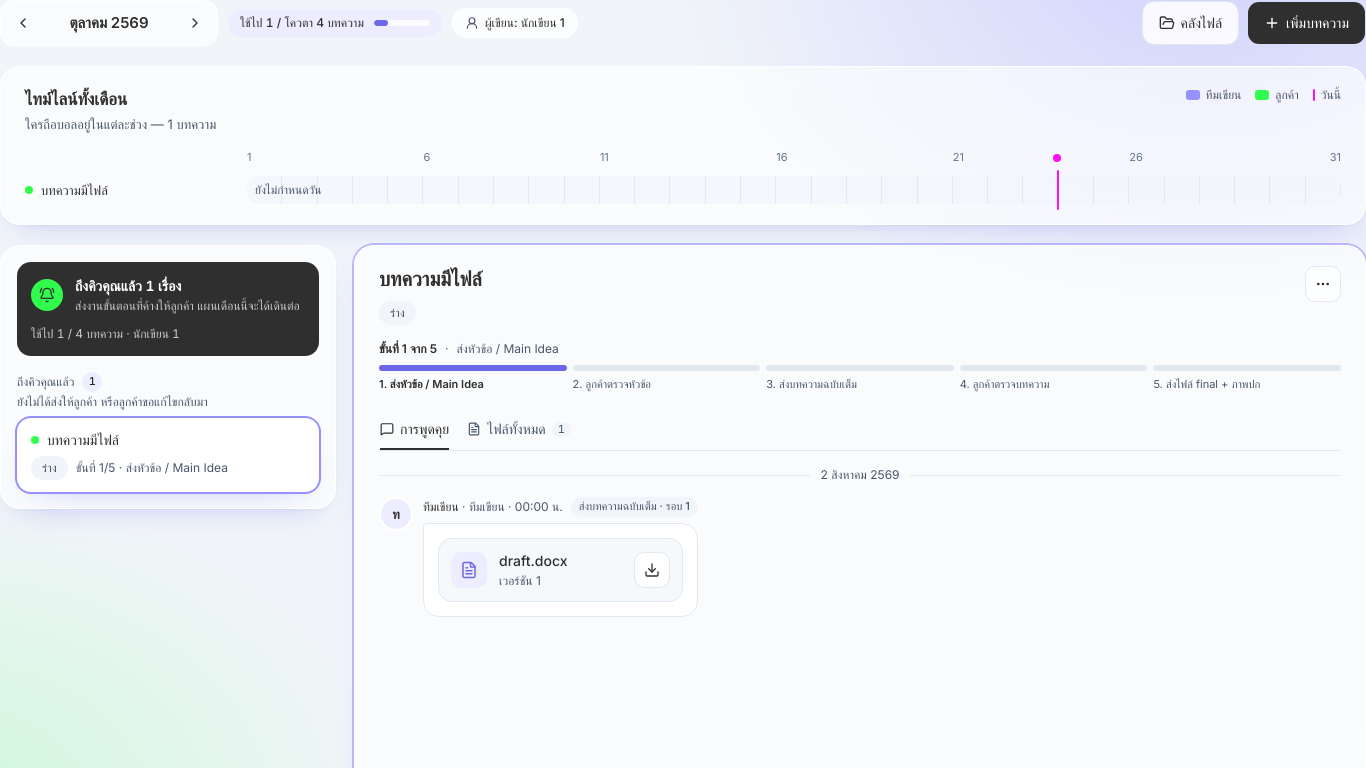
Test: BlogPlanBoard › กดคลังไฟล์ = เปิดหน้ารวมไฟล์แล้วกรองด้วยคำค้นได้
Click the button "คลังไฟล์" at (1190, 23), box [1142,1,1239,45]
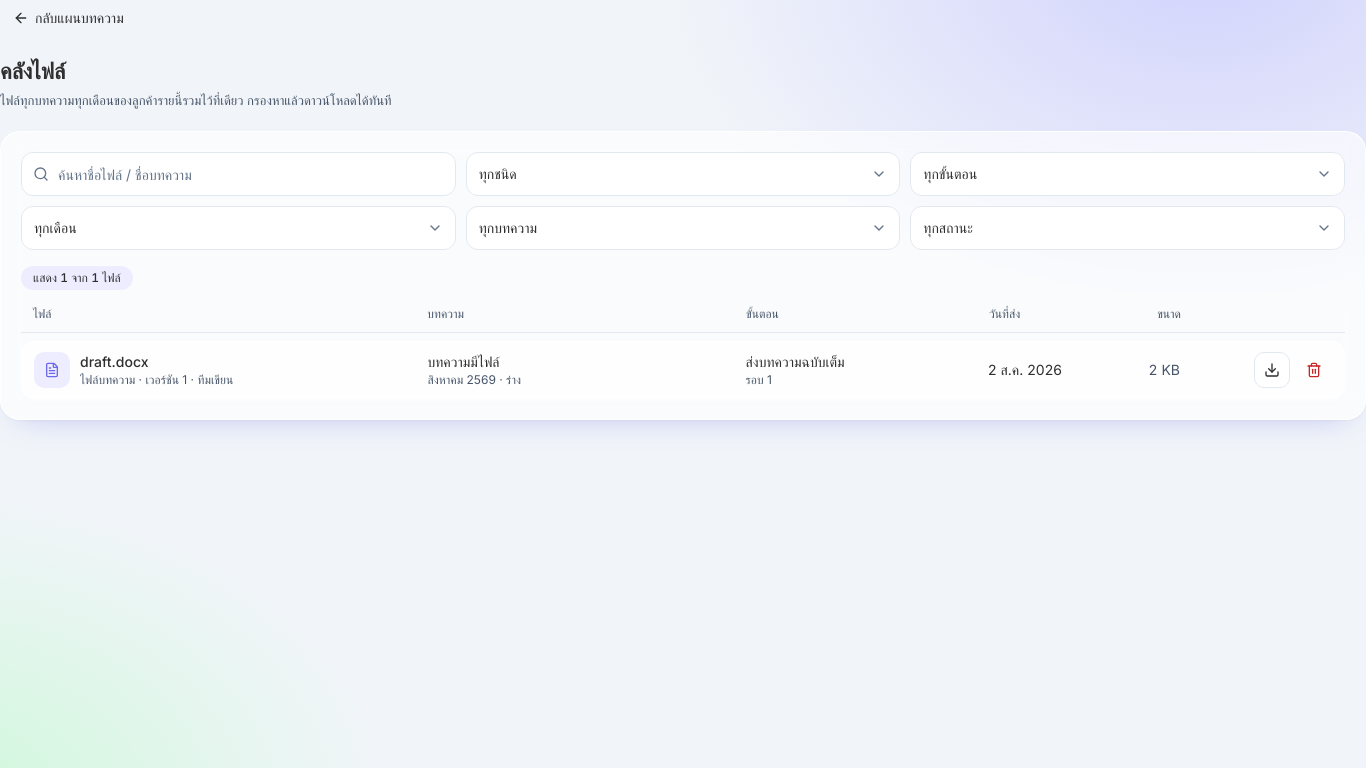
Expected: the text "draft.docx" is shown, [80,353,148,370]
Type "ไม่มีคำนี้" into the field named "ค้นหาชื่อไฟล์หรือชื่อบทความ" at (238, 174), box [21,152,456,196]
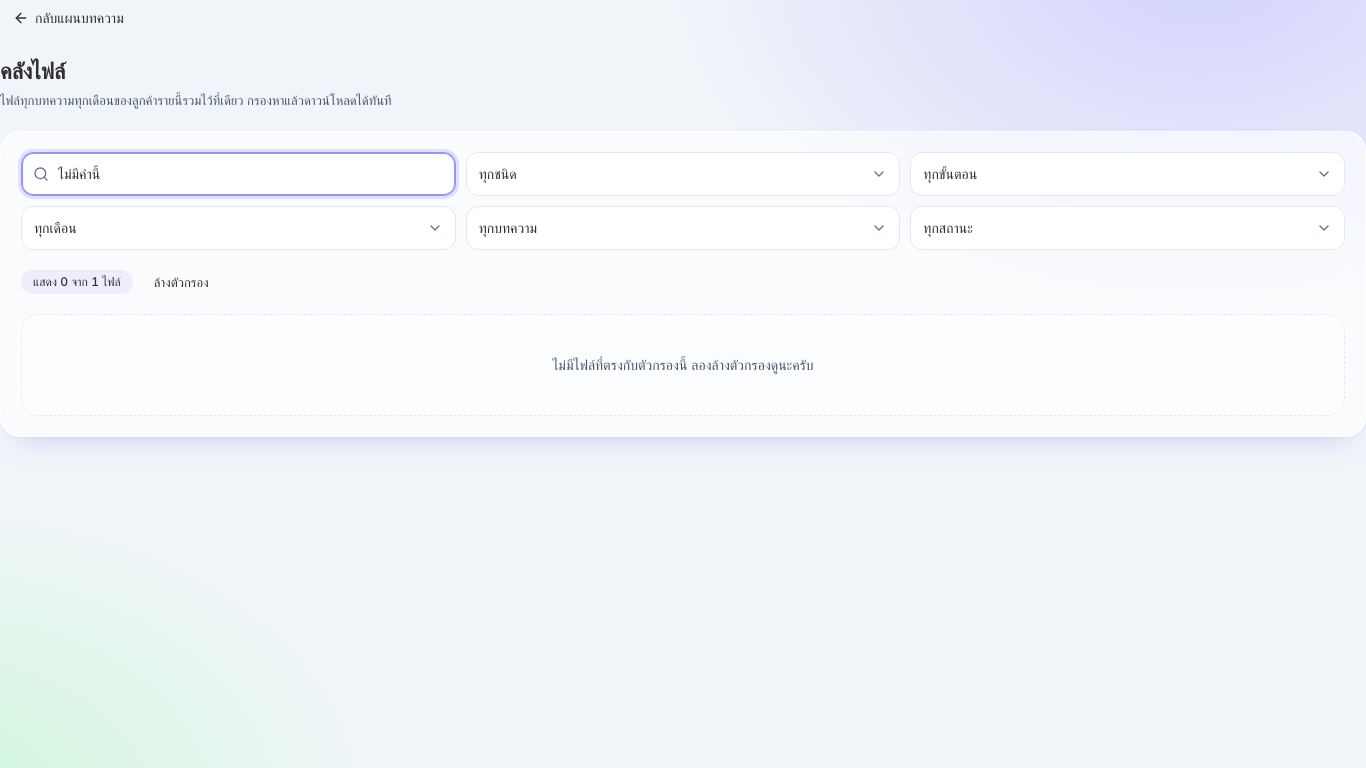
Now the text "draft.docx" is gone
Now the text "ไม่มีไฟล์ที่ตรงกับตัวกรองนี้ ลองล้างตัวกรองดูนะครับ" is shown, box [21,314,1345,416]
